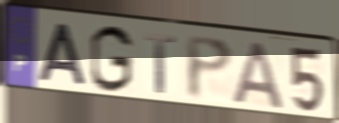5: (289, 44, 326, 114)
A: (230, 39, 286, 111), (36, 21, 89, 89)
G: (88, 23, 135, 95)
P: (184, 34, 235, 103)
T: (142, 32, 178, 96)
